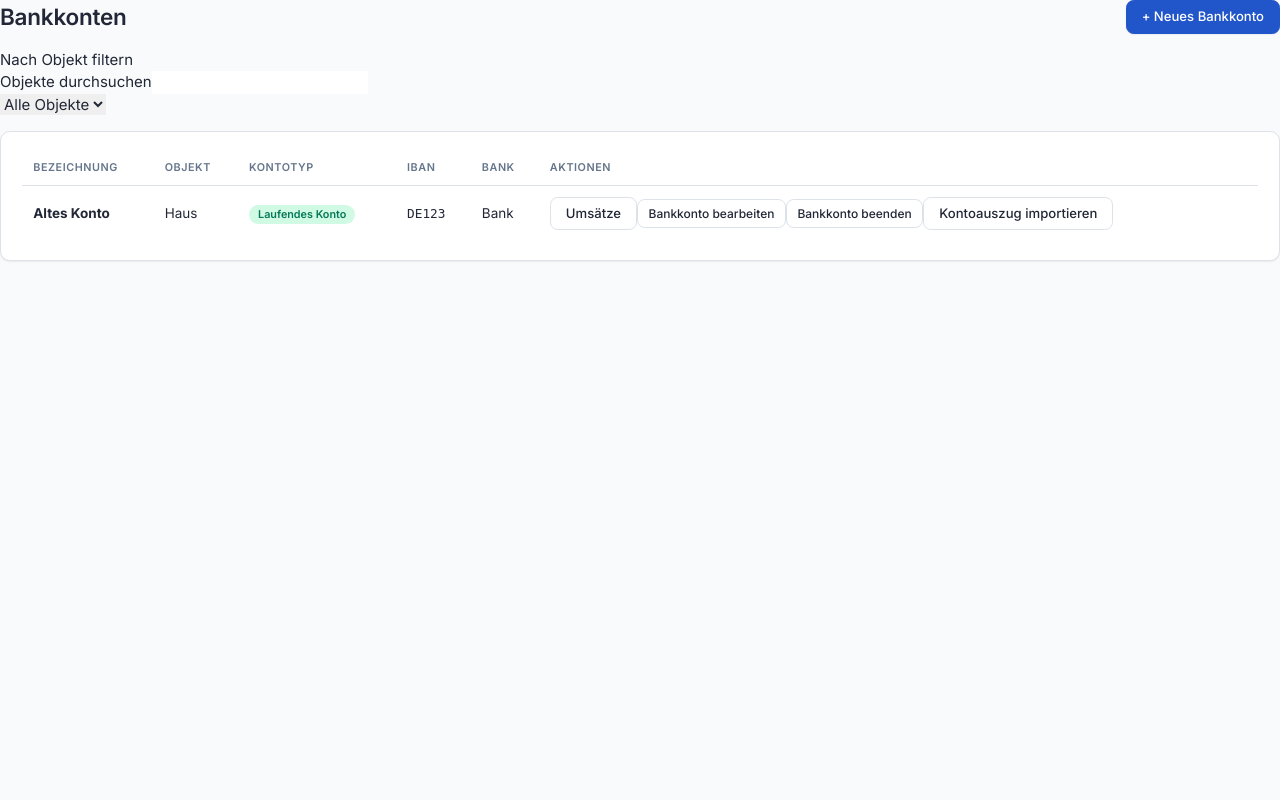
Test case: bank editor retains input on 403 and permits retry
Click the button "Bankkonto bearbeiten" at [711, 214], box x1=637 y1=200 x2=786 y2=228
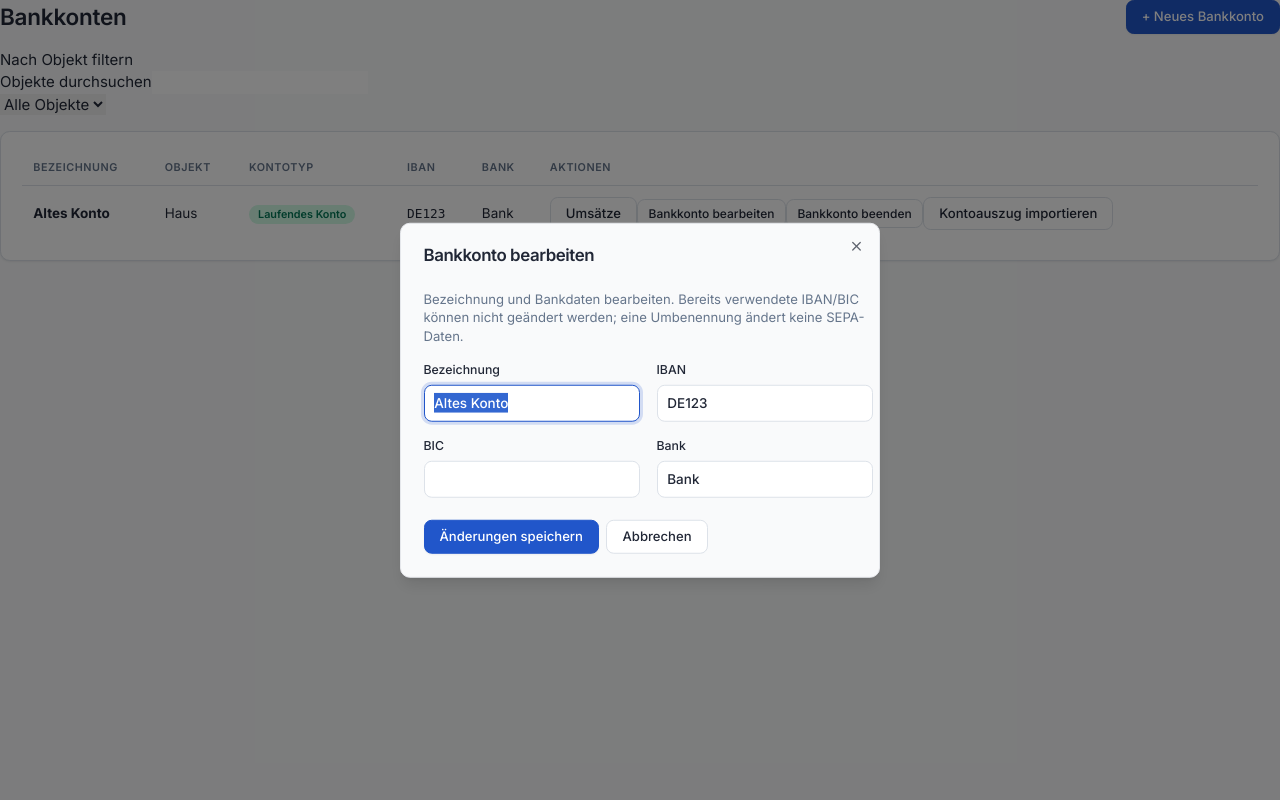
Replace the text in the field labelled "Bezeichnung" with "Neu" at [532, 403], box x1=424 y1=384 x2=640 y2=422
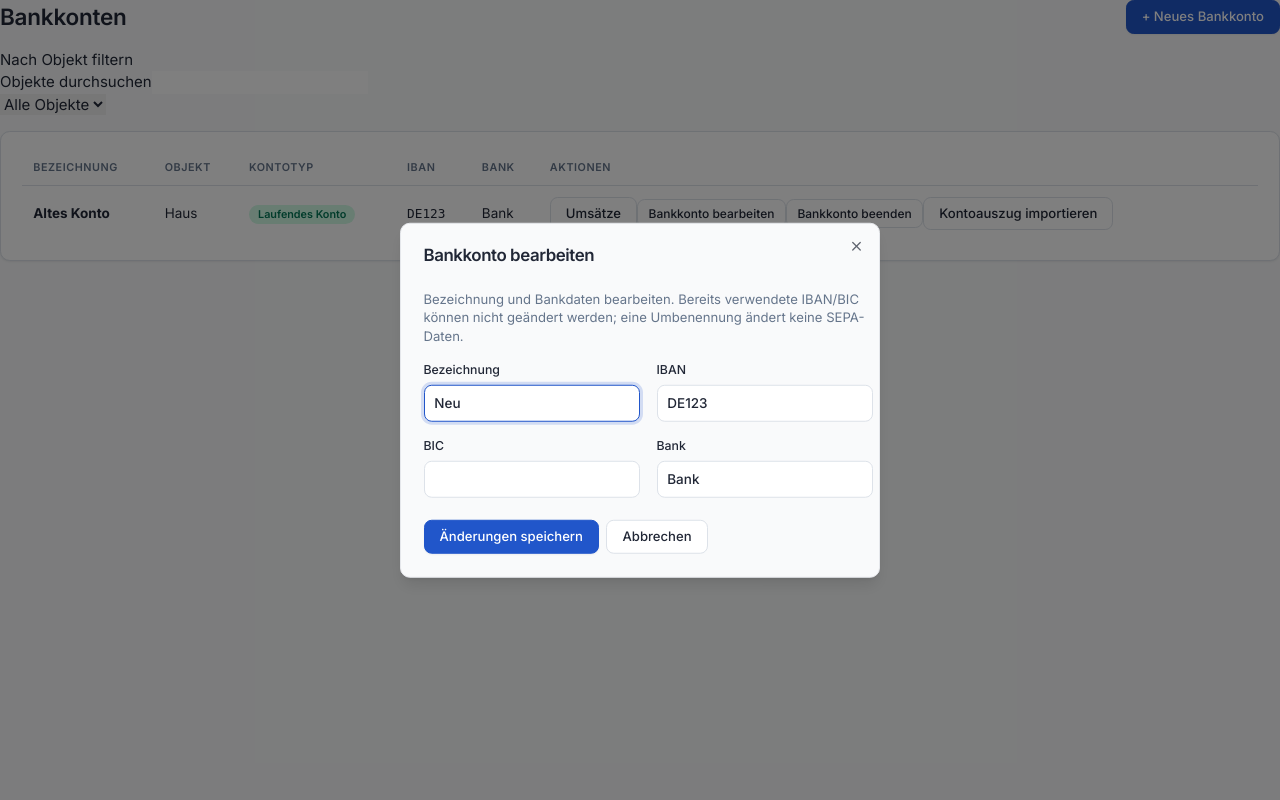
Click the button "Änderungen speichern" at [511, 537], box x1=424 y1=520 x2=599 y2=554
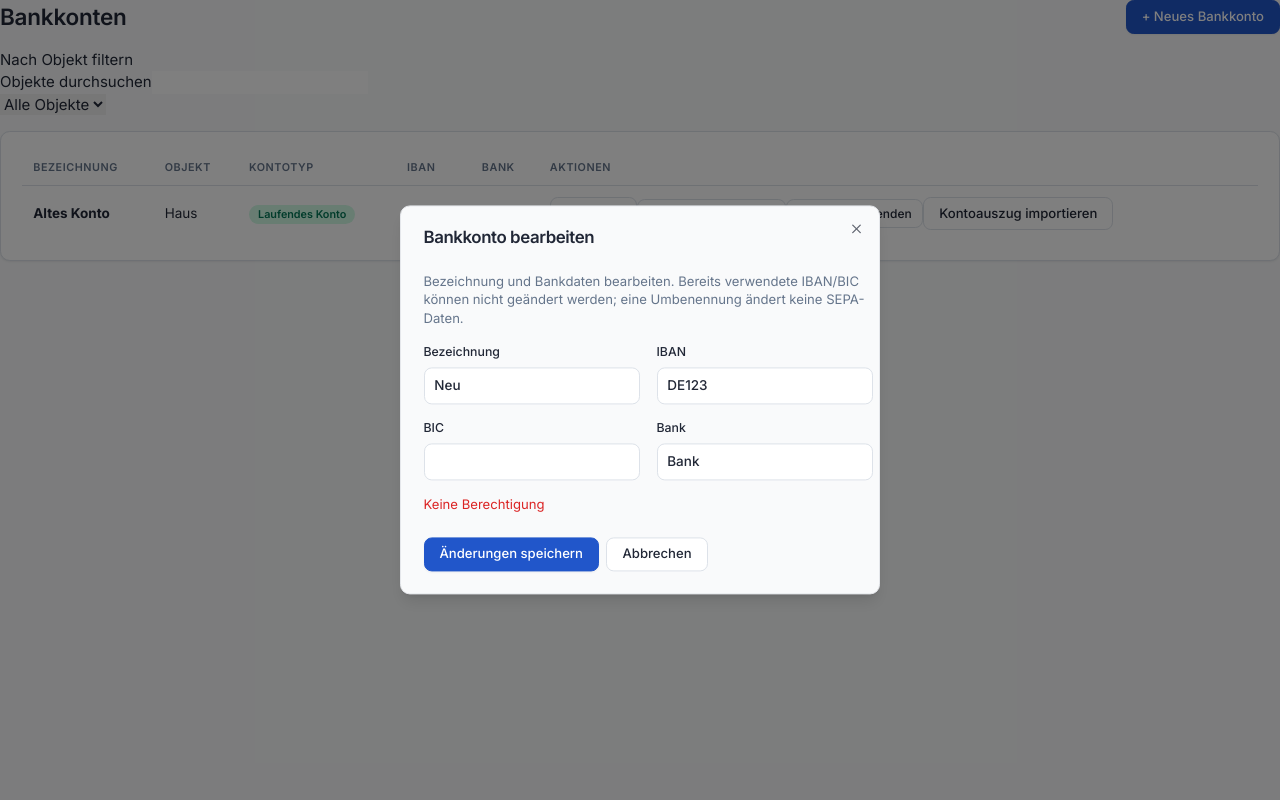
Expected: the message reads "Keine Berechtigung", x1=424 y1=496 x2=544 y2=512
Click the button "Änderungen speichern" at [511, 554], box x1=424 y1=537 x2=599 y2=571
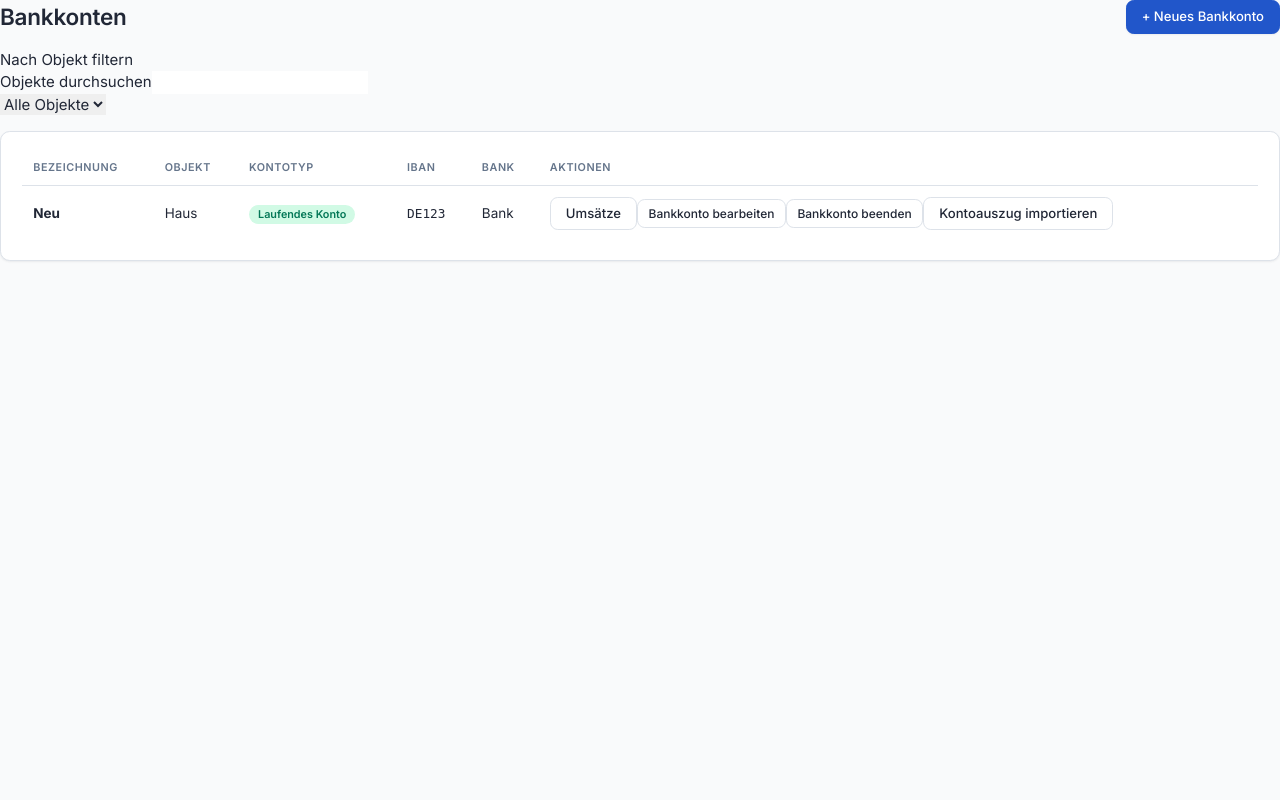
Expected: the text "Neu" is shown, x1=33 y1=205 x2=60 y2=221
